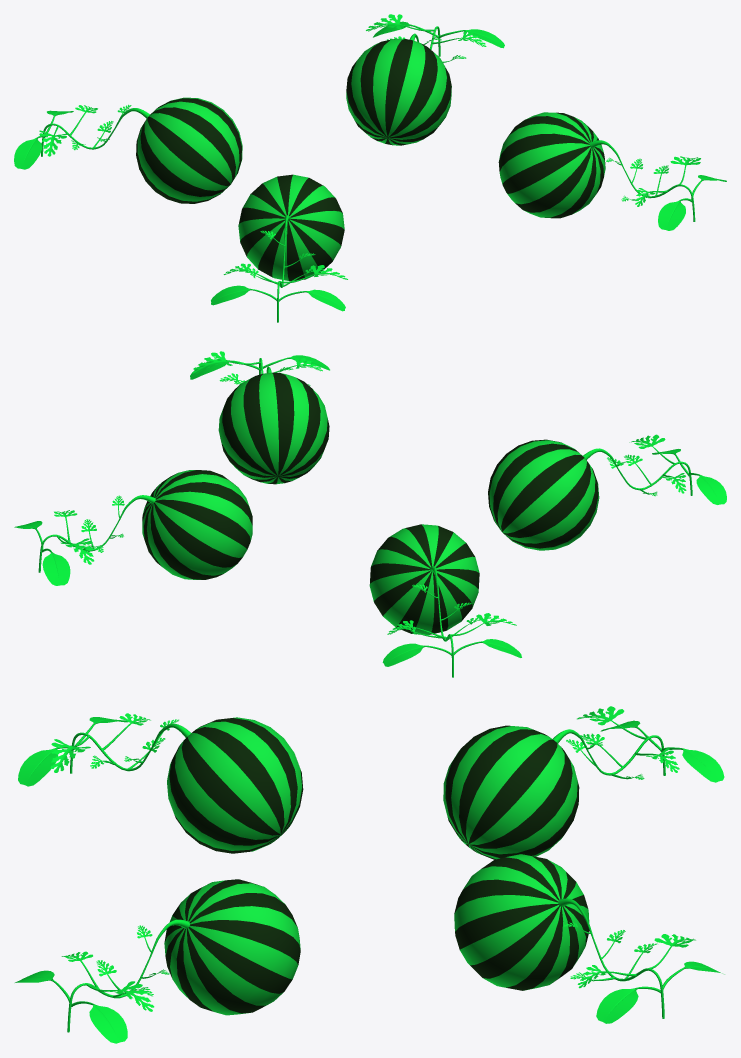
Rendered from Watermelon_lvl4.fbx.
3 views of the same model, one above another, from view 1: azimuth 30°, elevation 25°; view 2: azimuth 150°, elevation 25°; view 3: azimuth 270°, elevation 25° (orthographic). The views are drawn at different scales.
Parts seen in each view (by area): view 1: Watermelon_lvl4_LOD0; view 2: Watermelon_lvl4_LOD0; view 3: Watermelon_lvl4_LOD0.
Part boxes in pixels (left/top/right/bottom): Watermelon_lvl4_LOD0: left=14, top=14, right=726, bottom=322; Watermelon_lvl4_LOD0: left=14, top=351, right=726, bottom=677; Watermelon_lvl4_LOD0: left=15, top=706, right=724, bottom=1043.
Size of what is drawn, in the model's own units: 96.72 by 103 by 19.16.
